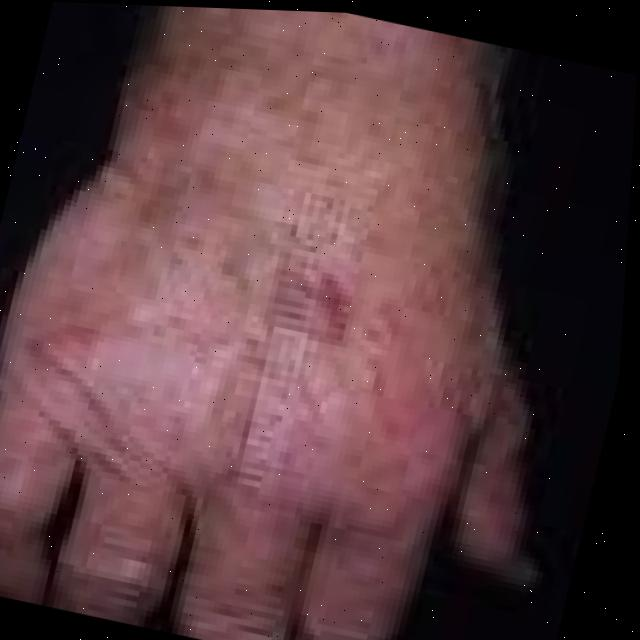Melasma: (259, 265, 362, 356)
